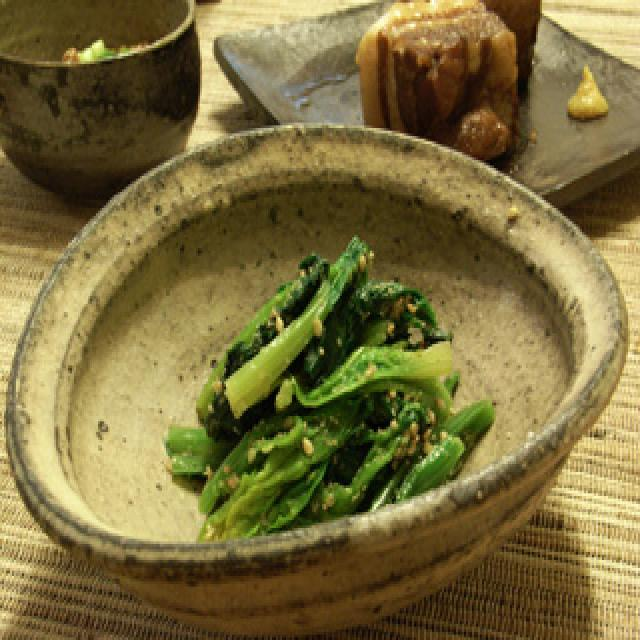猪肉菜式: (352, 0, 624, 165)
